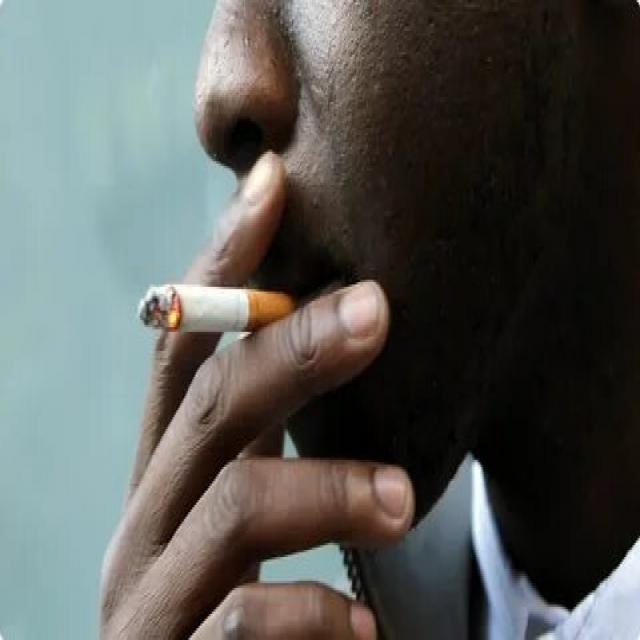cigarette: (137, 284, 304, 339)
